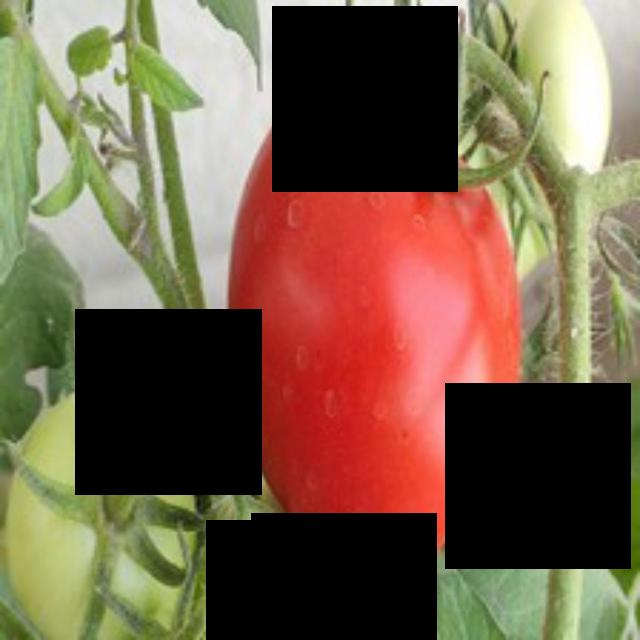tomato: (233, 68, 525, 580)
